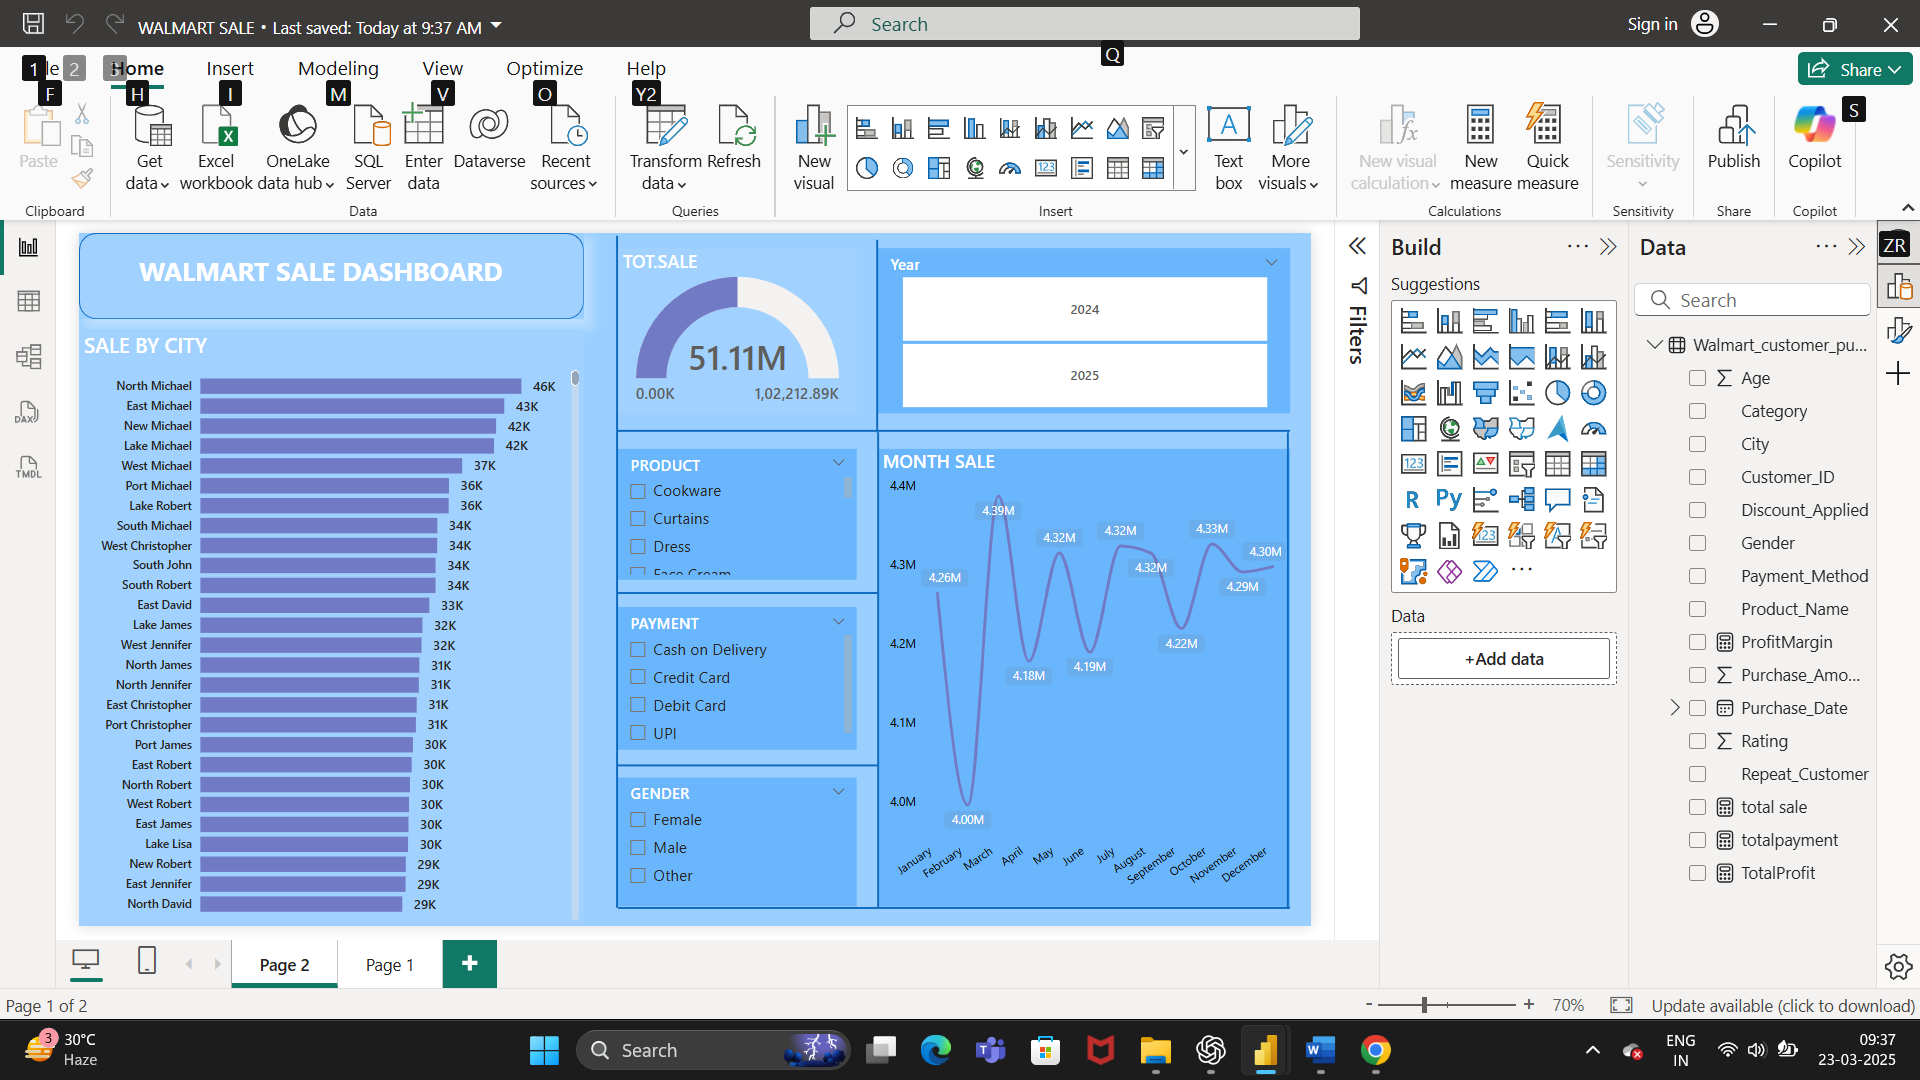

The page's visual inventory and layout, read from the dashboard file:
{"tool":"powerbi","page":{"name":"Page 2","canvas":[1280,720],"ordinal":0},"visuals":[{"type":"shape","box":[0,0,524.6,89.5],"z":0},{"type":"textbox","box":[28.4,16.4,444.8,58],"z":1000},{"type":"barChart","title":"SALE BY CITY","fields":{"Y":["Walmart_customer_purchases.total sale"],"Category":["Walmart_customer_purchases.City"]},"box":[0,101.8,524.6,617.5],"z":2000},{"type":"slicer","fields":{"Values":["Walmart_customer_purchases.Gender"]},"box":[560,566,248,134],"z":3000},{"type":"slicer","fields":{"Values":["Walmart_customer_purchases.Product_Name"]},"box":[560,224,248,136],"z":4000},{"type":"gauge","fields":{"Y":["Walmart_customer_purchases.total sale"]},"box":[560,16,248,172],"z":5000},{"type":"slicer","fields":{"Values":["Walmart_customer_purchases.Payment_Method"]},"box":[560,388,248,148],"z":6000},{"type":"lineChart","title":"MONTH SALE","fields":{"Category":["Walmart_customer_purchases.Purchase_Date.Variation.Date Hierarchy.Month"],"Y":["Walmart_customer_purchases.total sale"]},"box":[829.8,224.6,428.1,475.4],"z":7000},{"type":"slicer","fields":{"Values":["Walmart_customer_purchases.Purchase_Date.Variation.Date Hierarchy.Year"]},"box":[829.8,15.8,428.1,171.9],"z":8000},{"type":"shape","box":[559.6,187.7,698.2,36.8],"z":9000},{"type":"shape","box":[559.6,359.6,270.2,28.1],"z":10000},{"type":"shape","box":[559.6,540.4,270.2,26.3],"z":11000},{"type":"shape","box":[805.3,207,49.1,493],"z":12000},{"type":"shape","box":[559.6,682.5,698.2,36.8],"z":13000},{"type":"shape","box":[1231.6,207,49.1,494.7],"z":14000},{"type":"shape","box":[820,7.1,18.6,200],"z":15000},{"type":"shape","box":[533,2.8,52.3,698.2],"z":16000}]}

Visuals, with their boxes on the page's 1280x720 design canvas (x1, y1, x2, y2). These are canvas units, not pixel positions in the 1920x1080 screenshot, which may show the page scaled, cropped or inside an application window:
shape: Rect(0, 0, 525, 90)
textbox: Rect(28, 16, 473, 74)
"SALE BY CITY" barChart: Rect(0, 102, 525, 719)
slicer - Walmart_customer_purchases.Gender: Rect(560, 566, 808, 700)
slicer - Walmart_customer_purchases.Product_Name: Rect(560, 224, 808, 360)
gauge - Walmart_customer_purchases.total sale: Rect(560, 16, 808, 188)
slicer - Walmart_customer_purchases.Payment_Method: Rect(560, 388, 808, 536)
"MONTH SALE" lineChart: Rect(830, 225, 1258, 700)
slicer - Walmart_customer_purchases.Purchase_Date.Variation.Date Hierarchy.Year: Rect(830, 16, 1258, 188)
shape: Rect(560, 188, 1258, 224)
shape: Rect(560, 360, 830, 388)
shape: Rect(560, 540, 830, 567)
shape: Rect(805, 207, 854, 700)
shape: Rect(560, 682, 1258, 719)
shape: Rect(1232, 207, 1281, 702)
shape: Rect(820, 7, 839, 207)
shape: Rect(533, 3, 585, 701)
